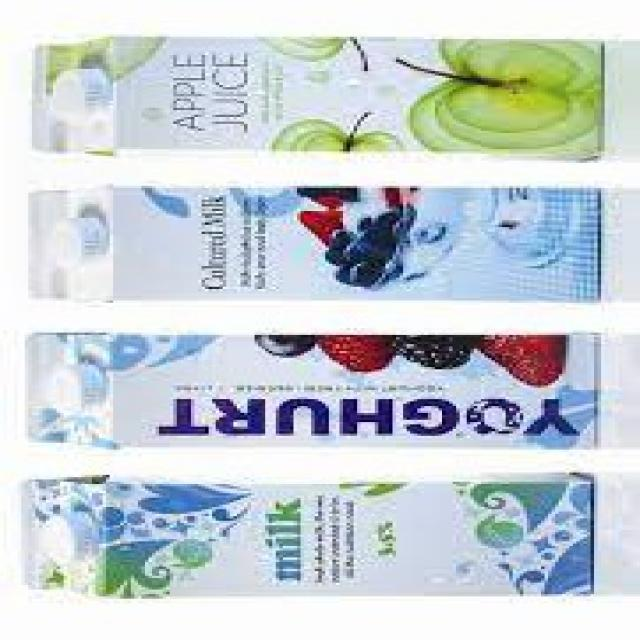non_white_jug: (22, 33, 607, 163), (15, 475, 597, 598), (21, 330, 600, 450), (20, 182, 598, 302)
